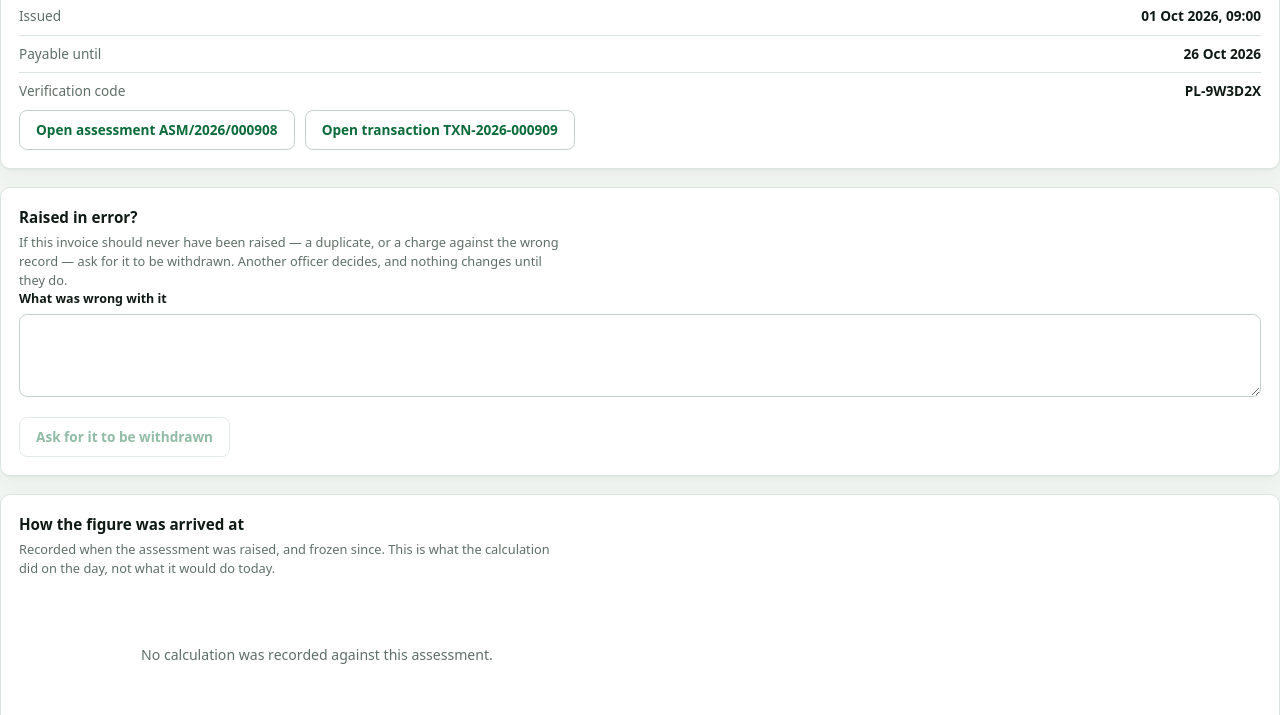
Test: an unpaid bill raised in error › is sent for a decision with the reason, and nothing more is claimed
The width and height of the screenshot is (1280, 715).
(page scrolled)
Expected: the heading "Raised in error?" is shown, [19,207,138,227]
Expected: the button "Ask for it to be withdrawn" is disabled, [19,417,230,457]
Type "Charged twice; the first press timed out." into the text box labelled "What was wrong with it" at (640, 356), box [19,314,1261,397]
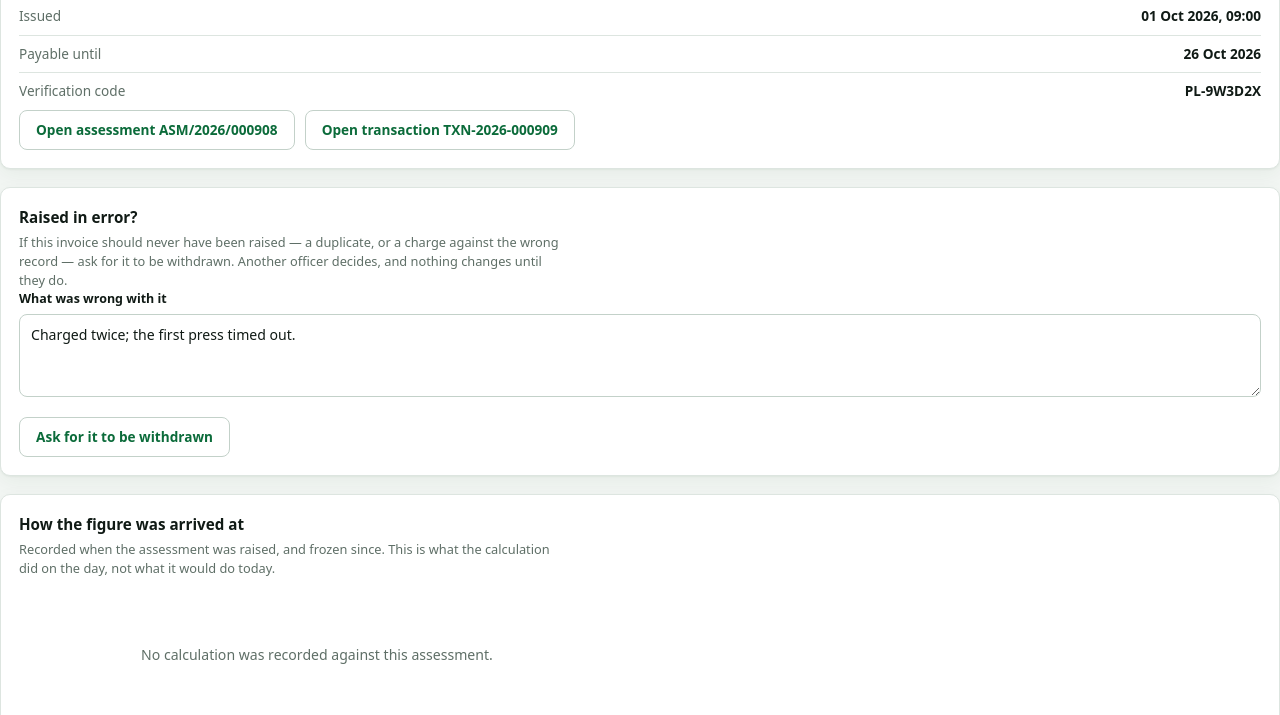
Click the button "Ask for it to be withdrawn" at (124, 437), box [19,417,230,457]
(page scrolled)
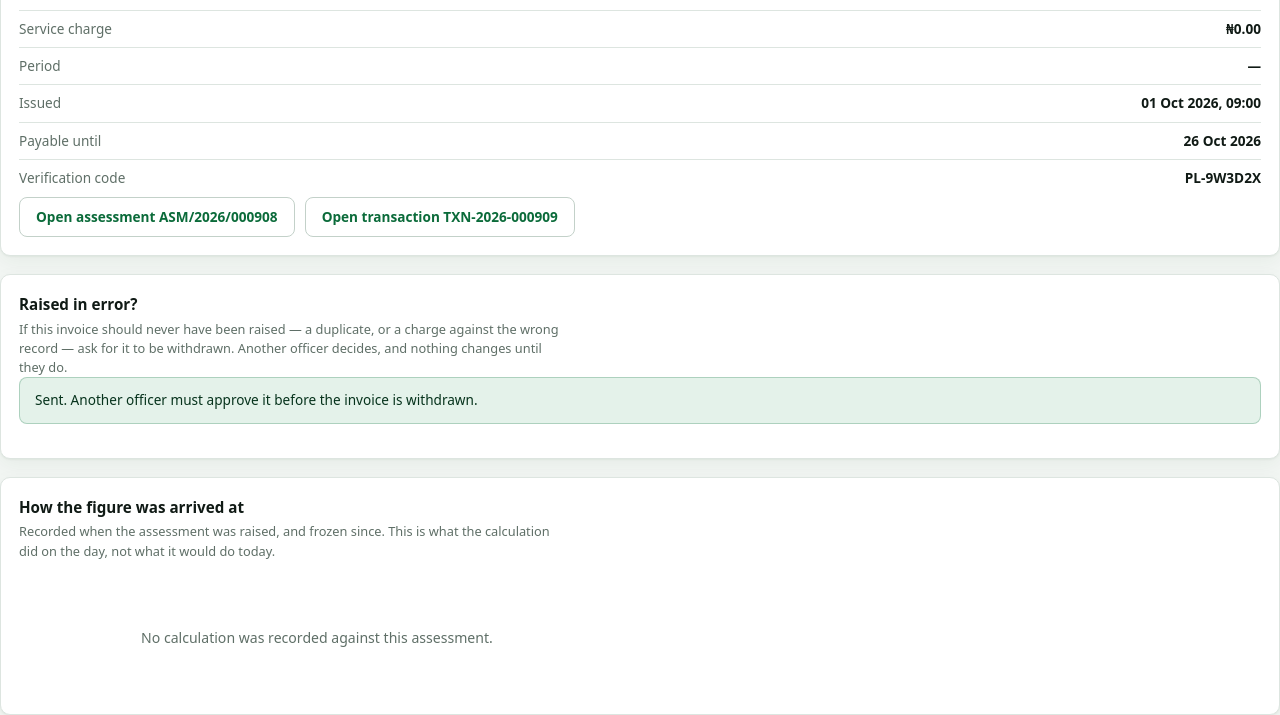
Now the text "Another officer must approve it" is shown, box [35,390,478,409]
